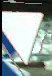Give way: (0, 1, 45, 65)
